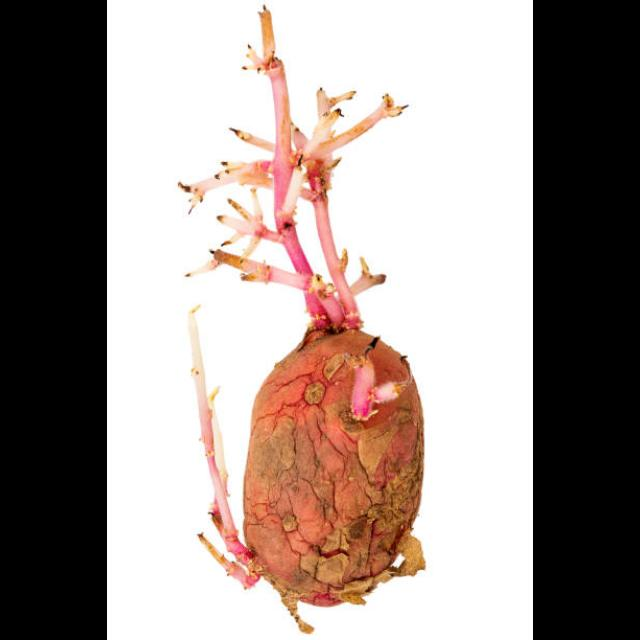Sprouted potato: (172, 32, 448, 640)
